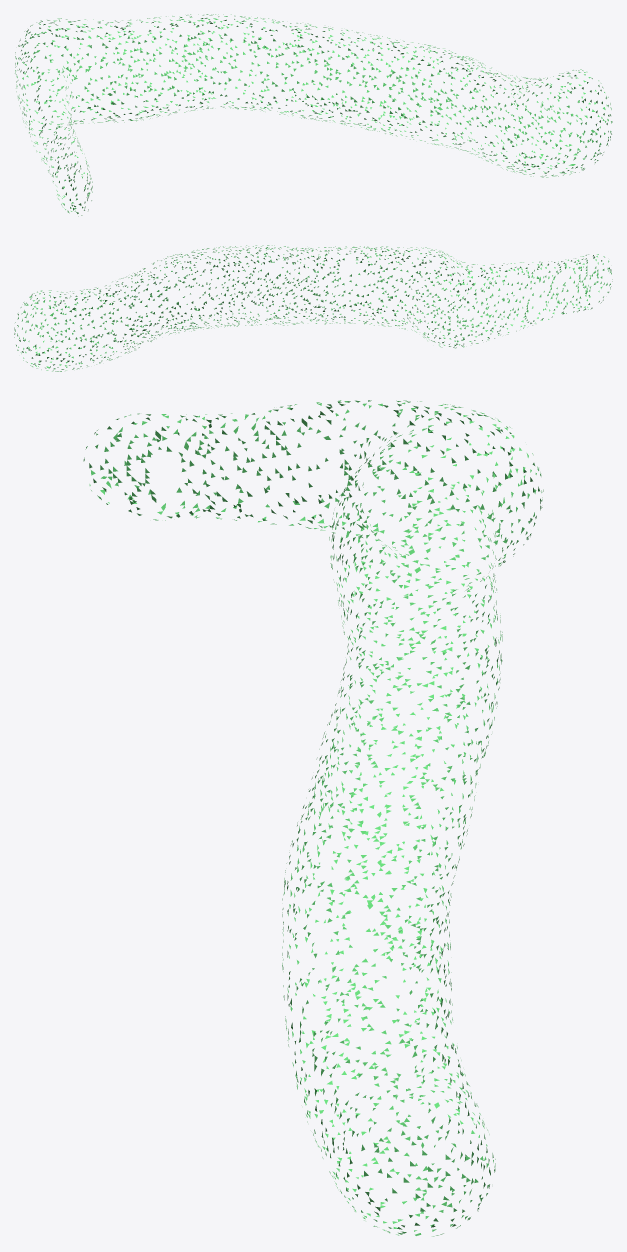
Rendered from morph_019.glb.
3 renders of one model, top to bottom at view 1: azimuth 30°, elevation 25°; view 2: azimuth 150°, elevation 25°; view 3: azimuth 270°, elevation 25°, orthographic. The views are drawn at different scales.
Size of the model in its own units: 145 by 57.36 by 56.86.
